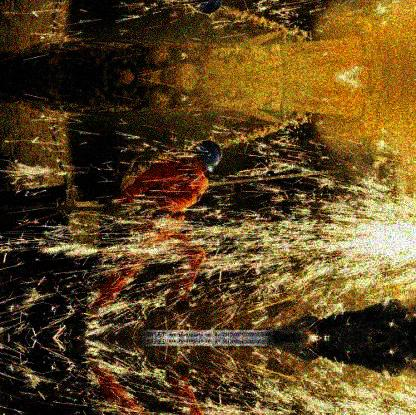helmet: (187, 140, 226, 174)
